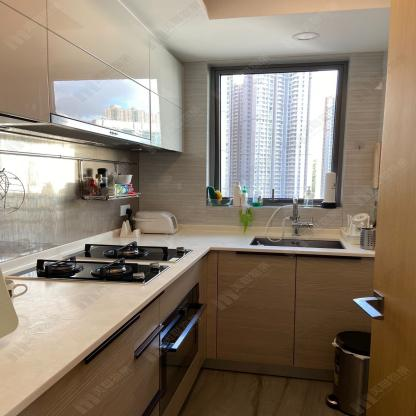Exhaust Hood: (0, 113, 153, 146)
Faucet: (280, 194, 315, 238)
Oven: (159, 281, 200, 416)
Sink: (221, 231, 354, 255)
Stove: (0, 238, 205, 290)
